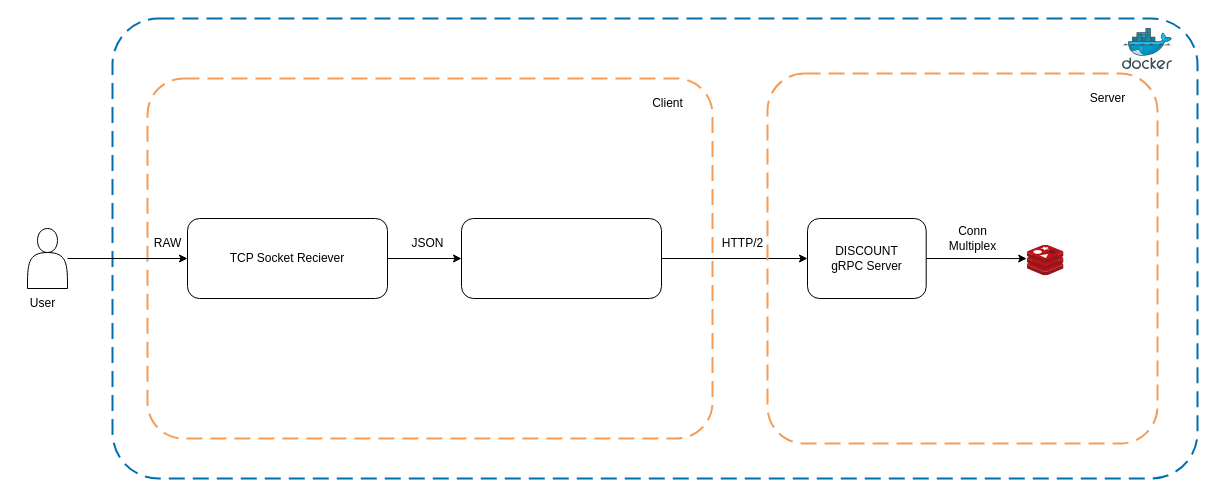
This 1215x496 diagram has some shape labels left out. Here are the shapes that lost their labels. From the top down, the centre of each, then its label:
At (x=561, y=258): "DISCOUNT gRPC Client".
At (x=1045, y=260): "Redis".
